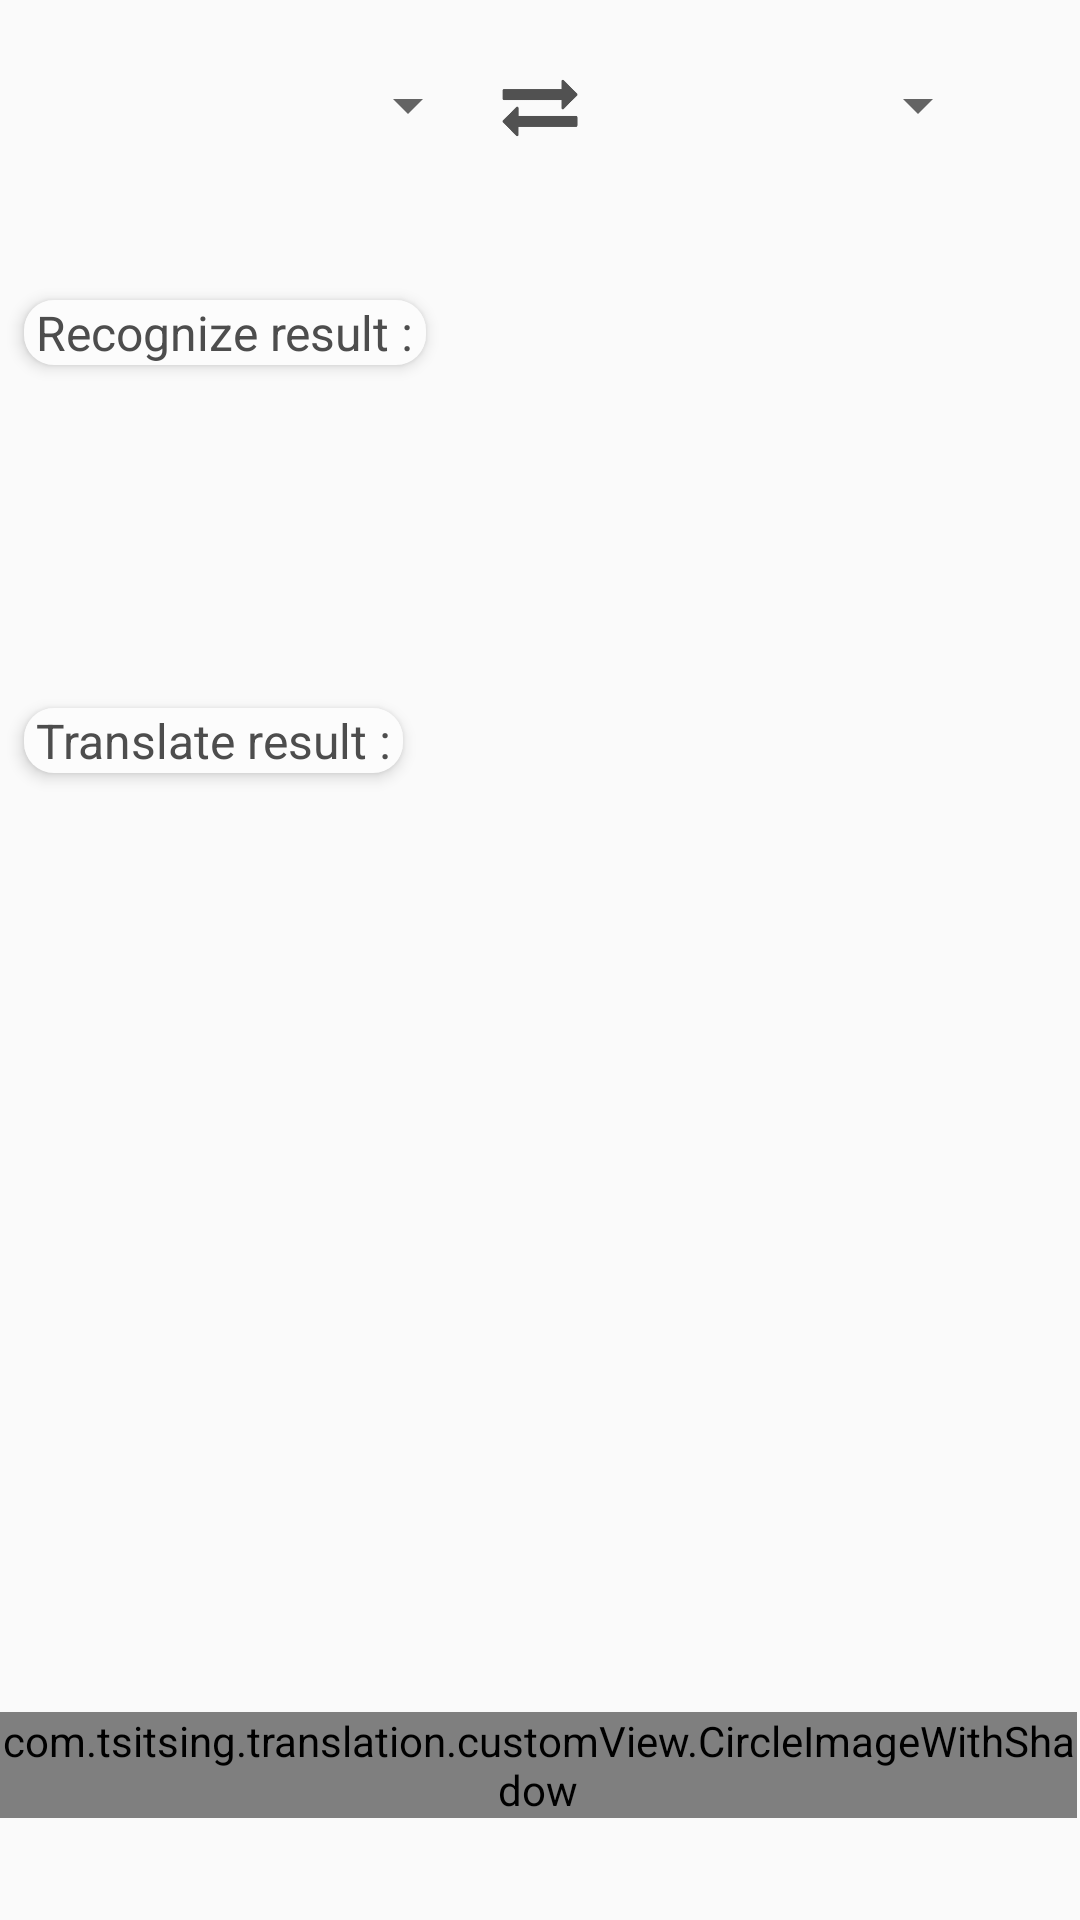

Named icons in this screenshot (1080*1920) and their bounding boxes, detection(x1, y1, x2, y2):
switch: detection(502, 80, 578, 136)
